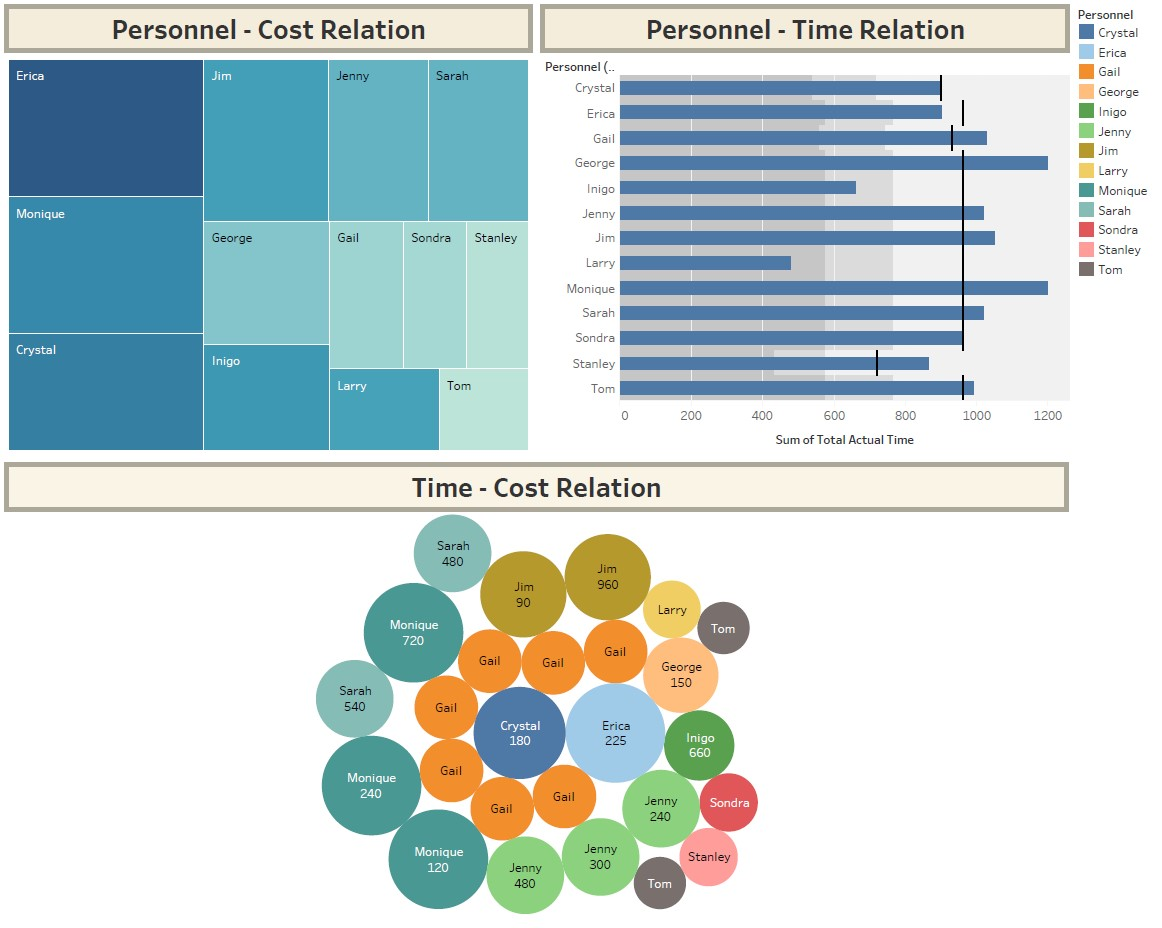

This screenshot's page, from the dashboard's own definition file:
{"tool":"tableau","page":{"name":"Analysis","canvas":[1000,1000],"units":"permille","ordinal":0},"visuals":[{"type":"worksheet","title":"Personnel - Cost Relation","mark":"Automatic","box":[4.7,8.5,495.3,491.5]},{"type":"worksheet","title":"Personnel - Time Relation","mark":"Automatic","rows":["Personnel (Cleaned Time Table For Tableau)"],"cols":["Calculation_908038300476805124"],"box":[500,8.5,495.3,491.5]},{"type":"worksheet","title":"Time - Cost Relation","mark":"Circle","box":[4.7,500,990.6,491.5]}]}

Visuals, with their boxes on the dashboard's canvas, which has no fixed pixel size, in thousandths of its width and height (x1, y1, x2, y2). These are canvas units, not pixel positions in the 1162x928 screenshot, which may show the page scaled, cropped or inside an application window:
"Personnel - Cost Relation" worksheet: left=5, top=8, right=500, bottom=500
"Personnel - Time Relation" worksheet: left=500, top=8, right=995, bottom=500
"Time - Cost Relation" worksheet (Circle marks): left=5, top=500, right=995, bottom=992
